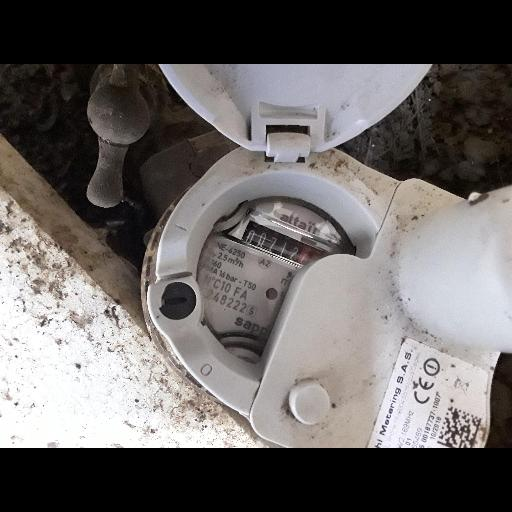0: (241, 220, 261, 245), (252, 225, 272, 250)
1: (275, 234, 295, 258)
2: (286, 239, 305, 263)
5: (297, 244, 314, 267)
7: (264, 230, 283, 254)
border_water_meter_number: (232, 206, 336, 280)
